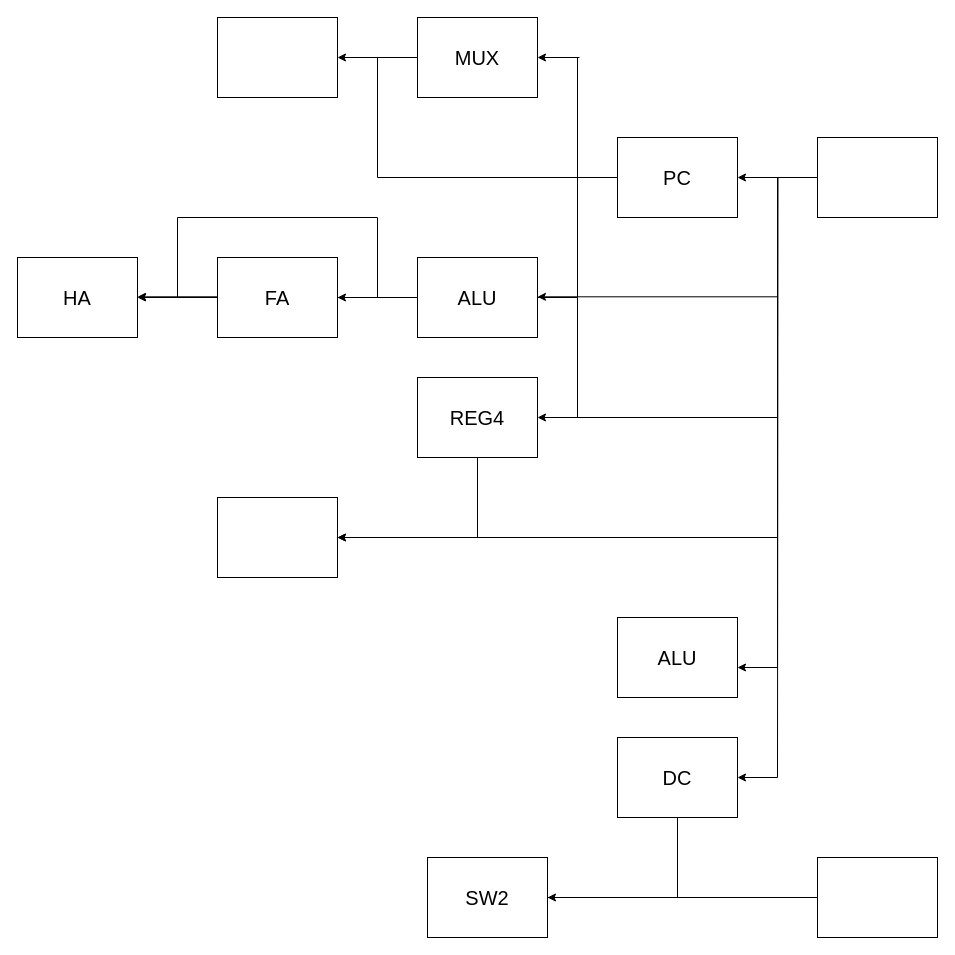
Image size: 955x955. Some labels were removed from this diagram. The shapes that lost their labels are listed below. From the top down, each one's centre as x and y in pixels, then its label:
point (277, 57): SUBMUX
point (877, 177): CPU
point (277, 537): REG1
point (877, 897): SW4
